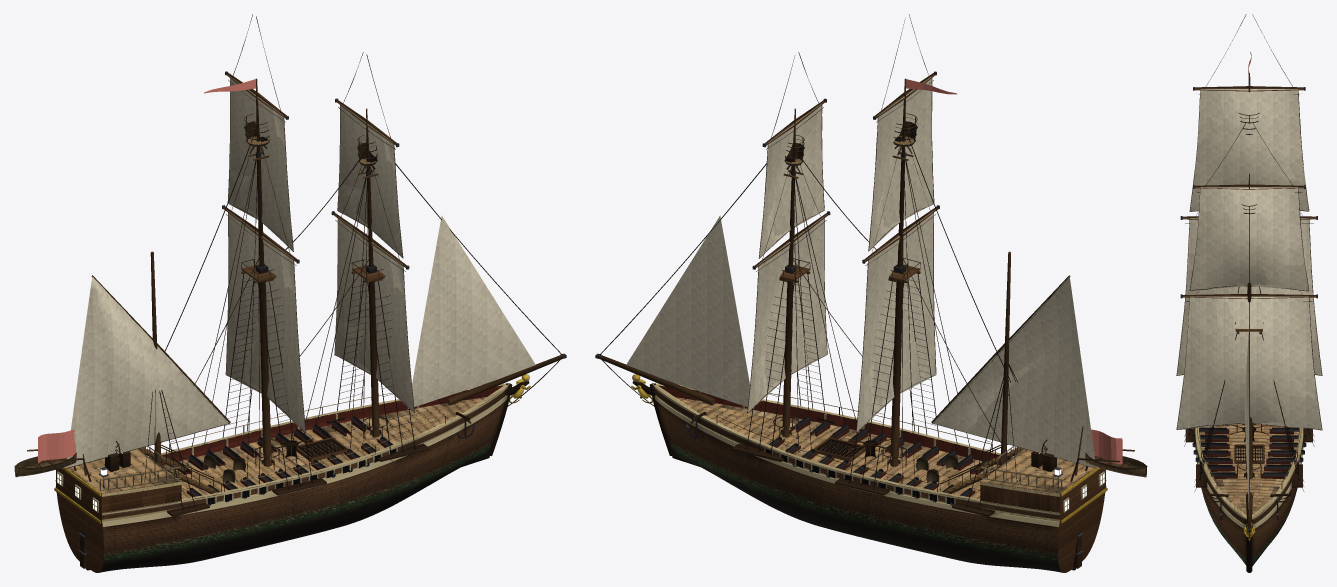
File: pinnace.glb
The picture shows the model from 3 angles, left to right: view 1: azimuth 30°, elevation 25°; view 2: azimuth 150°, elevation 25°; view 3: azimuth 270°, elevation 25°; orthographic projection. The views are drawn at different scales.
Visible parts, largest first — view 1: LOD0_Wood, LOD0_Body, LOD2_m1_SquareSail, LOD0_m2_AftSail, LOD2_m0_SquareSail, LOD0_Jib, LOD2_Body, LOD2_Wood, LOD1_Wood, LOD0_m1_SquareSail, LOD1_m1_SquareSail, LOD1_m2_AftSail (+8 smaller); view 2: LOD0_Wood, LOD0_Body, LOD2_m1_SquareSail, LOD2_m2_AftSail, LOD2_Jib, LOD2_m0_SquareSail, LOD2_Body, LOD2_Wood, LOD1_Wood, LOD0_m1_SquareSail, LOD1_m1_SquareSail, LOD0_m0_SquareSail (+8 smaller); view 3: LOD0_m0_SquareSail, LOD0_m1_SquareSail, LOD0_Body, LOD0_Wood, LOD2_m0_SquareSail, LOD2_Body, LOD1_m0_SquareSail, LOD1_m1_SquareSail, LOD2_m1_SquareSail, LOD0_m0_SquareYards, LOD0_m1_SquareYards, LOD2_m0_SquareYards (+8 smaller).
Part boxes in pixels (x1,y1,x2,y2): LOD0_Wood: [14, 78, 566, 572]; LOD0_Body: [56, 123, 530, 572]; LOD2_m1_SquareSail: [226, 76, 304, 428]; LOD0_m2_AftSail: [66, 276, 196, 467]; LOD2_m0_SquareSail: [335, 111, 413, 407]; LOD0_Jib: [408, 215, 522, 408]; LOD2_Body: [67, 386, 507, 570]; LOD2_Wood: [61, 150, 551, 570]; LOD1_Wood: [57, 121, 563, 572]; LOD0_m1_SquareSail: [226, 107, 304, 426]; LOD1_m1_SquareSail: [227, 108, 305, 432]; LOD1_m2_AftSail: [67, 282, 229, 467]; LOD0_Wood: [595, 78, 1147, 572]; LOD0_Body: [631, 122, 1105, 572]; LOD2_m1_SquareSail: [858, 89, 934, 428]; LOD2_m2_AftSail: [949, 276, 1095, 467]; LOD2_Jib: [626, 215, 749, 406]; LOD2_m0_SquareSail: [749, 112, 826, 407]; LOD2_Body: [654, 386, 1094, 570]; LOD2_Wood: [611, 157, 1100, 570]; LOD1_Wood: [599, 108, 1104, 572]; LOD0_m1_SquareSail: [856, 77, 935, 432]; LOD1_m1_SquareSail: [860, 82, 935, 423]; LOD0_m0_SquareSail: [748, 104, 825, 412]; LOD0_m0_SquareSail: [1177, 187, 1314, 429]; LOD0_m1_SquareSail: [1177, 89, 1315, 375]; LOD0_Body: [1184, 121, 1314, 565]; LOD0_Wood: [1185, 73, 1312, 572]; LOD2_m0_SquareSail: [1178, 187, 1321, 429]; LOD2_Body: [1199, 423, 1299, 565]; LOD1_m0_SquareSail: [1180, 187, 1315, 428]; LOD1_m1_SquareSail: [1182, 89, 1315, 336]; LOD2_m1_SquareSail: [1177, 89, 1321, 375]; LOD0_m0_SquareYards: [1176, 122, 1322, 430]; LOD0_m1_SquareYards: [1176, 14, 1322, 375]; LOD2_m0_SquareYards: [1182, 185, 1316, 298].
Size of the model in its own units: 38.34 by 34.95 by 9.68.
Materials: 5 (3 with a texture image).
